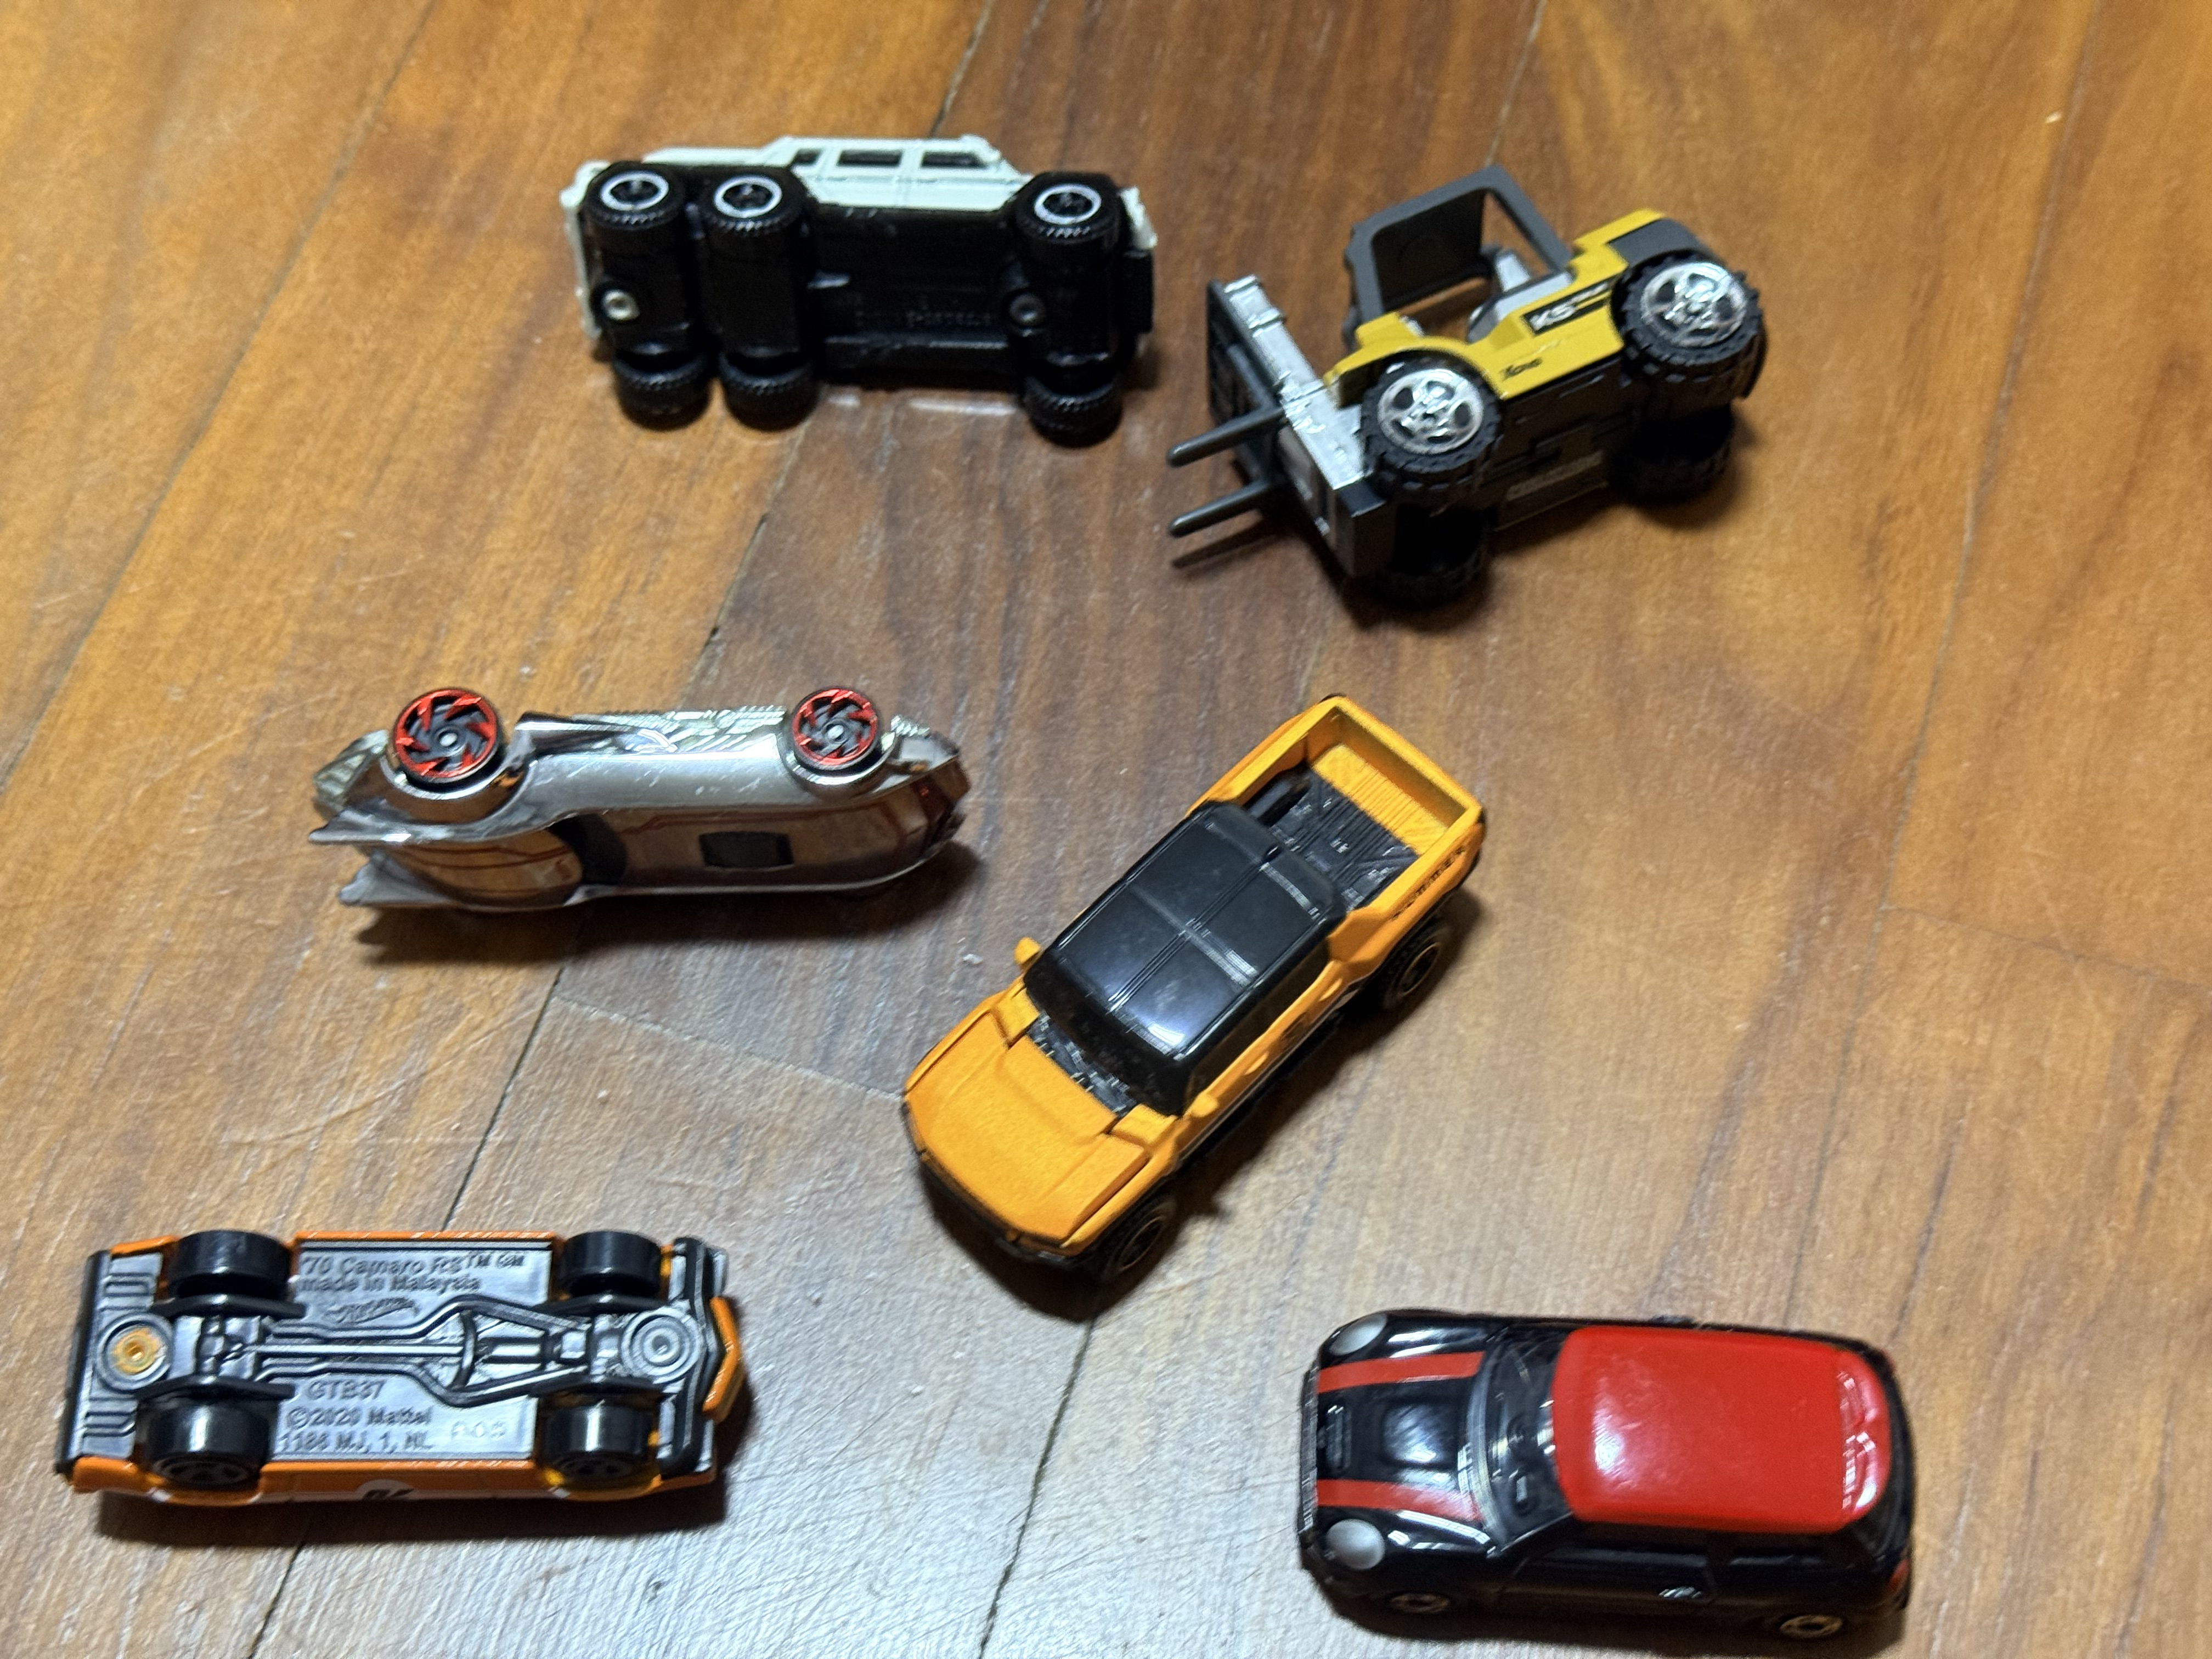camaro_rs: (49, 1222, 747, 1518)
dc_comics: (300, 681, 972, 924)
forklift: (1165, 166, 1771, 622)
gmc_hummer: (900, 690, 1493, 1295)
mercedes_benz: (554, 131, 1165, 443)
mini_cooper: (1294, 1305, 1918, 1652)
